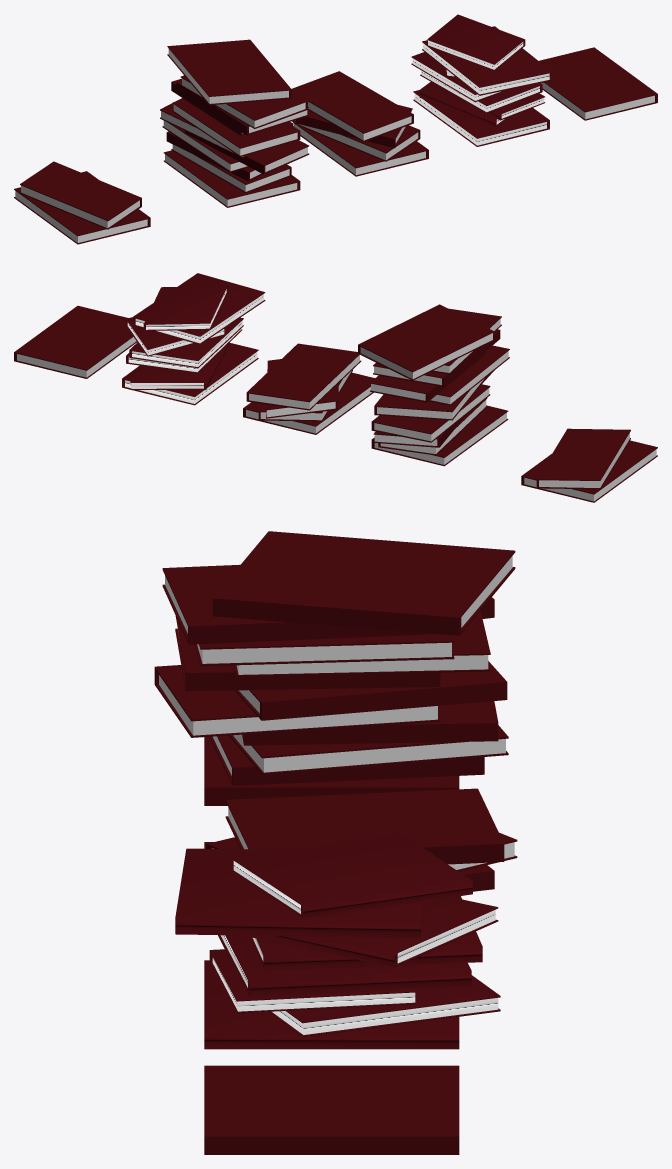
File: Books 1.fbx
3 views of the same model, one above another, from view 1: azimuth 30°, elevation 25°; view 2: azimuth 150°, elevation 25°; view 3: azimuth 270°, elevation 25° (orthographic). The views are drawn at different scales.
Visible parts, largest first — view 1: Cube.001, Cube.007, Cube.006, Cube.003, Cube.002; view 2: Cube.001, Cube.007, Cube.006, Cube.003, Cube.002; view 3: Cube.001, Cube.007, Cube.002, Cube.006.
Part boxes in pixels (x1=…): Cube.001: x1=160, y1=39, x2=309, y2=207; Cube.007: x1=411, y1=14, x2=552, y2=146; Cube.006: x1=291, y1=71, x2=428, y2=176; Cube.003: x1=14, y1=161, x2=150, y2=244; Cube.002: x1=539, y1=47, x2=657, y2=120; Cube.001: x1=358, y1=304, x2=509, y2=466; Cube.007: x1=122, y1=273, x2=265, y2=405; Cube.006: x1=243, y1=343, x2=374, y2=434; Cube.003: x1=521, y1=428, x2=657, y2=502; Cube.002: x1=14, y1=305, x2=136, y2=378; Cube.001: x1=154, y1=531, x2=515, y2=805; Cube.007: x1=175, y1=833, x2=500, y2=1049; Cube.002: x1=204, y1=1065, x2=459, y2=1154; Cube.006: x1=204, y1=788, x2=517, y2=891.
Bounding box in the file's own units: 657 × 109 × 178.
